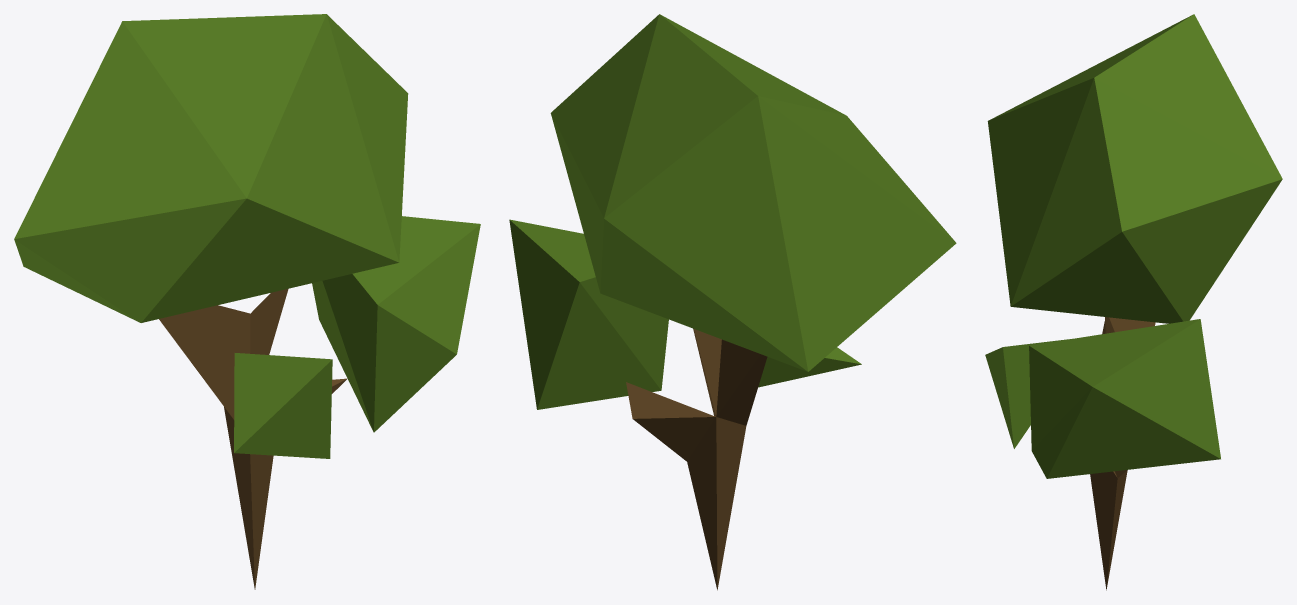
The model's file is temp-decid.tall-op0.075.gltf.
3 views of the same model, side by side, from view 1: azimuth 30°, elevation 25°; view 2: azimuth 150°, elevation 25°; view 3: azimuth 270°, elevation 25° (orthographic). The views are drawn at different scales.
Parts seen in each view (by area): view 1: Tree1_1; view 2: Tree1_1; view 3: Tree1_1.
Part boxes in pixels (left/top/right/bottom): Tree1_1: left=14, top=14, right=480, bottom=589; Tree1_1: left=509, top=14, right=956, bottom=590; Tree1_1: left=985, top=14, right=1282, bottom=590.
Bounding box in the file's own units: 6.15 × 7.21 × 3.58.
Materials: 1 (1 with a texture image).
